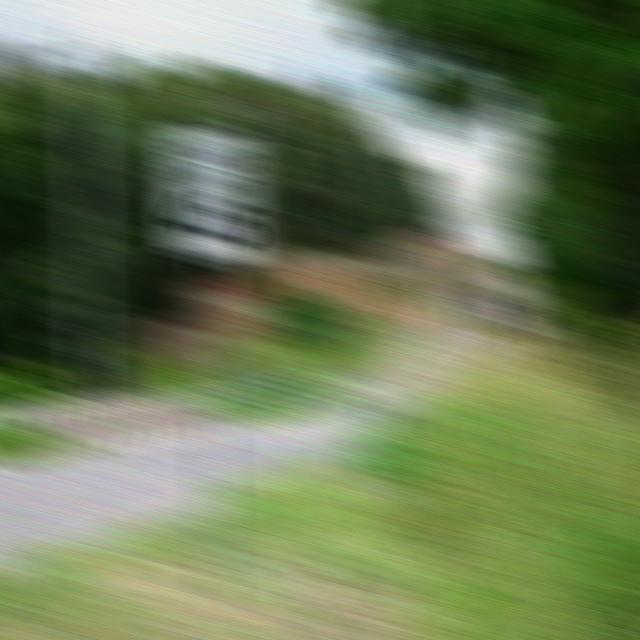speedLimit45: (165, 130, 254, 258)
